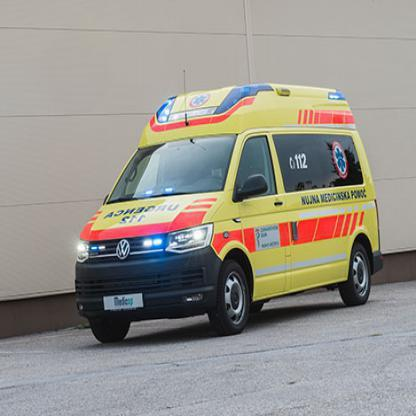Ambulance - v1 Ambulance last generate: (73, 83, 385, 343)
